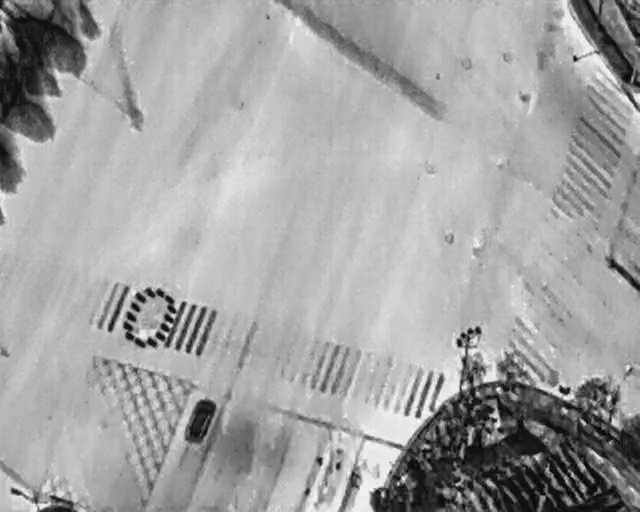Car: (181, 395, 218, 448)
